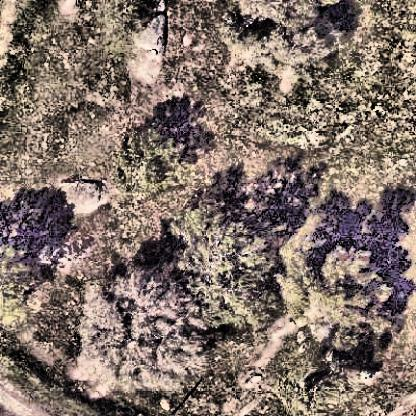tree-top: (141, 206, 285, 333), (77, 274, 201, 396), (292, 253, 406, 365), (210, 1, 339, 71), (112, 126, 188, 201), (1, 224, 45, 297), (98, 1, 150, 60)
